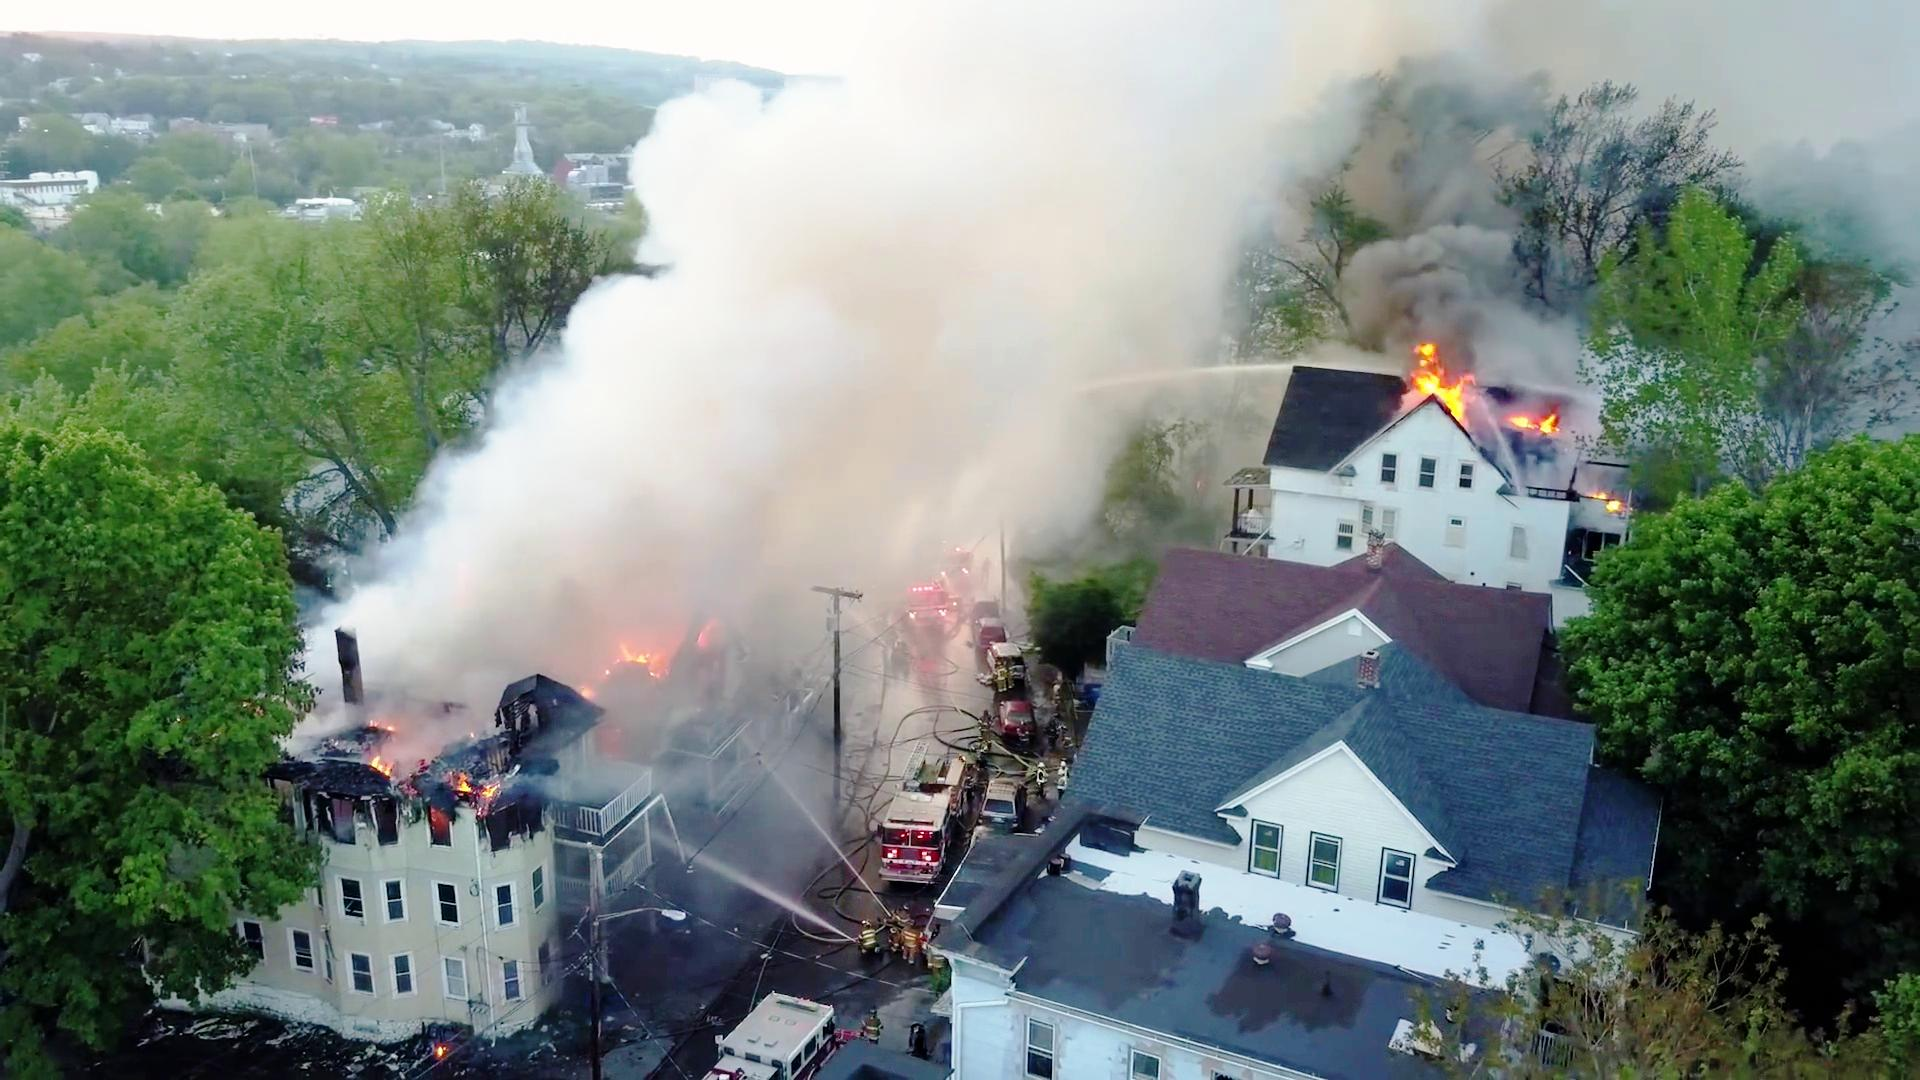fire: (1400, 335, 1478, 435)
smoke: (791, 108, 1221, 471)
